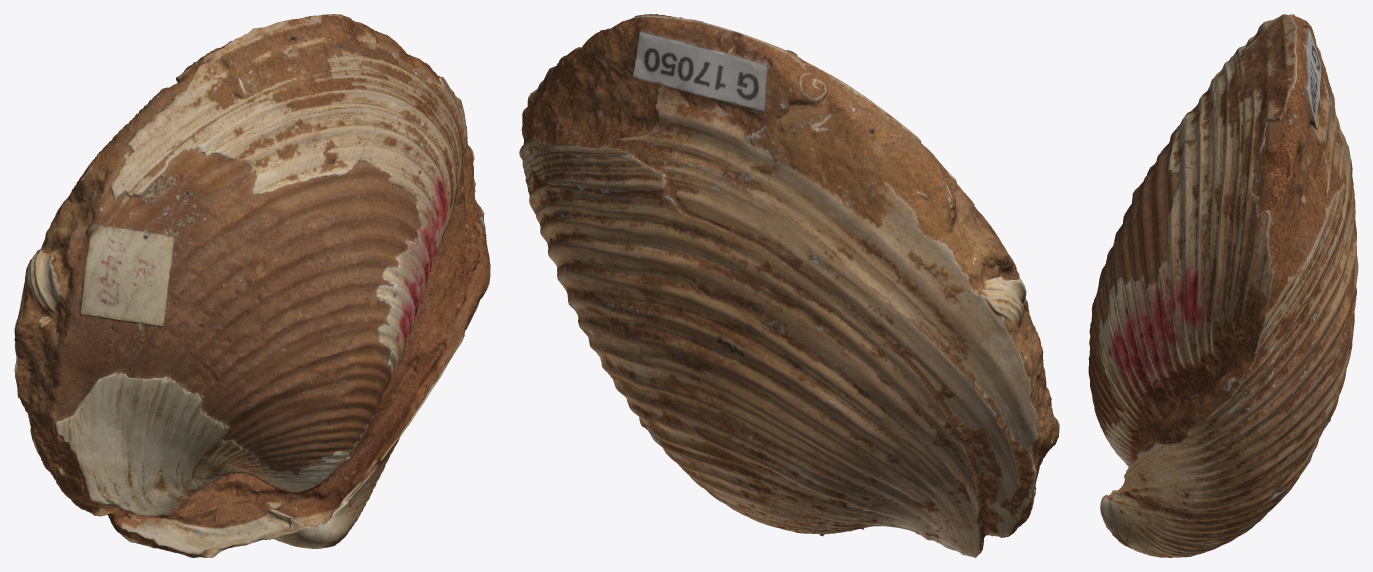
File: EWS0016365.glb
3 renders of one model, left to right at view 1: azimuth 30°, elevation 25°; view 2: azimuth 150°, elevation 25°; view 3: azimuth 270°, elevation 25°, orthographic. The views are drawn at different scales.
Visible parts, largest first — view 1: input.001; view 2: input.001; view 3: input.001.
Part boxes in pixels (<box>): input.001: <box>14,14,490,557</box>; input.001: <box>519,14,1059,557</box>; input.001: <box>1088,14,1358,557</box>.
Bounding box in the file's own units: 0.0612 × 0.0603 × 0.0281.
Materials: 1 (1 with a texture image).
